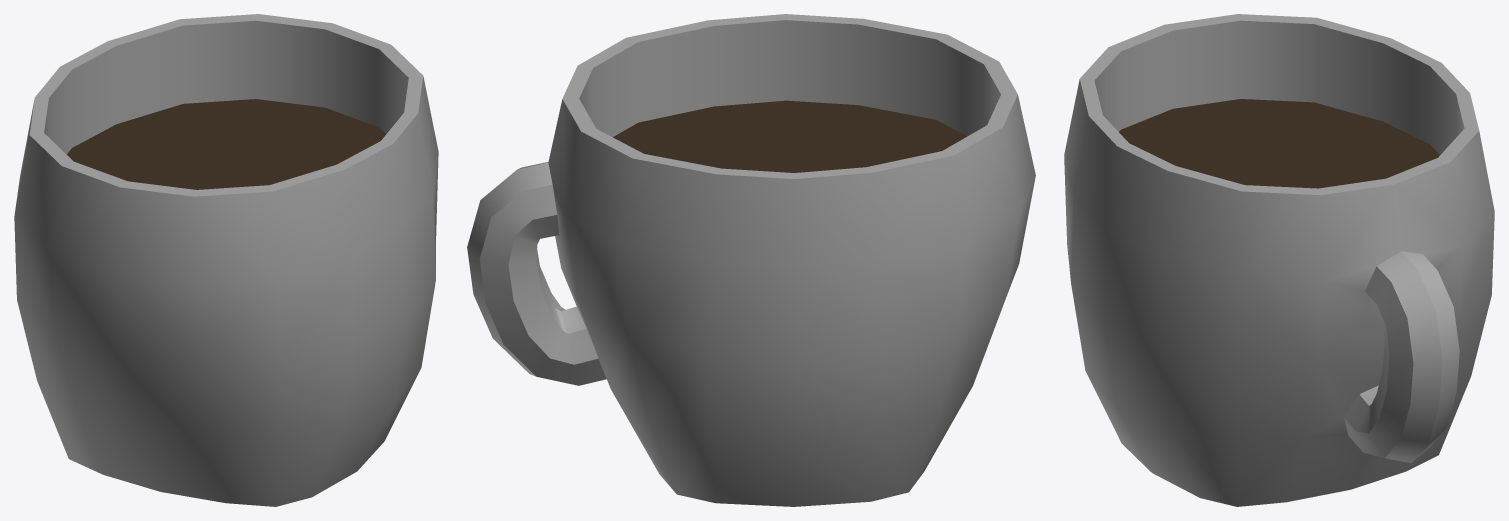
Rendered from Tasse.fbx.
The picture shows the model from 3 angles, left to right: view 1: azimuth 30°, elevation 25°; view 2: azimuth 150°, elevation 25°; view 3: azimuth 270°, elevation 25°; orthographic projection. The views are drawn at different scales.
Parts seen in each view (by area): view 1: ObjTasse; view 2: ObjTasse; view 3: ObjTasse.
Boxes of the visible parts, x1,y1,x2,y2 form: ObjTasse: (14,14,438,506); ObjTasse: (467,14,1035,506); ObjTasse: (1064,14,1494,506).
Bounding box in the file's own units: 2.9 × 2.14 × 2.48.
